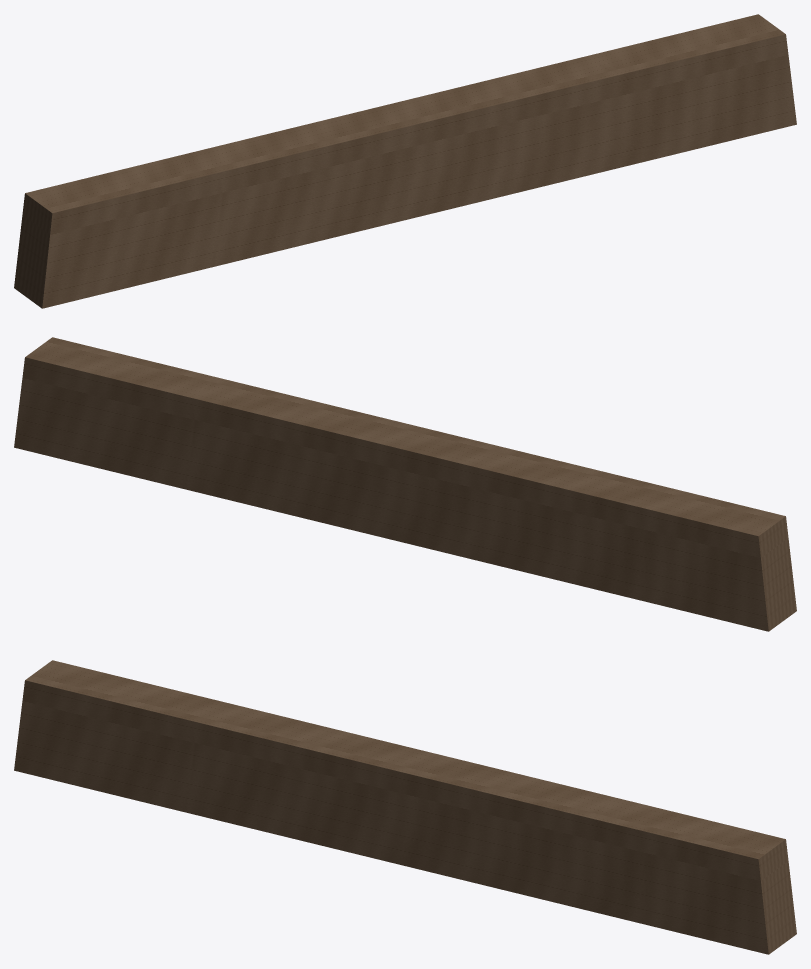
Rendered from cladding_board.glb.
3 renders of one model, top to bottom at view 1: azimuth 30°, elevation 25°; view 2: azimuth 150°, elevation 25°; view 3: azimuth 330°, elevation 25°, orthographic.
Visible parts, largest first — view 1: cladding_board; view 2: cladding_board; view 3: cladding_board.
Boxes of the visible parts, x1,y1,x2,y2 form: cladding_board: (14, 14, 796, 308); cladding_board: (14, 337, 796, 631); cladding_board: (14, 660, 796, 954).
Size of the model in its own units: 1.62 by 0.19 by 0.105.
Materials: 1 (1 with a texture image).
